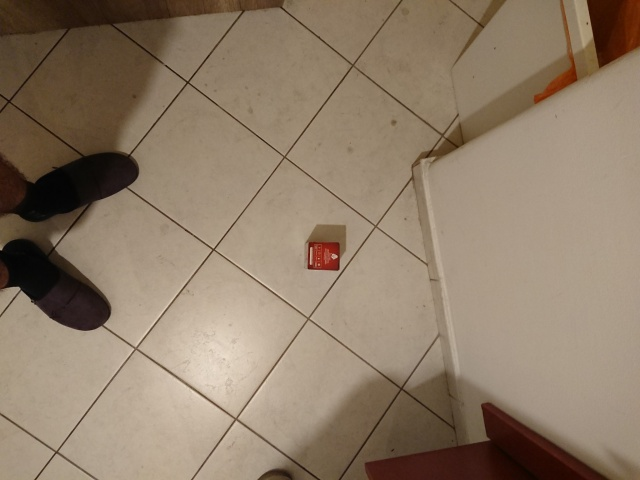Franck Apple Cinnamon Tea 60g: (301, 238, 343, 273)
